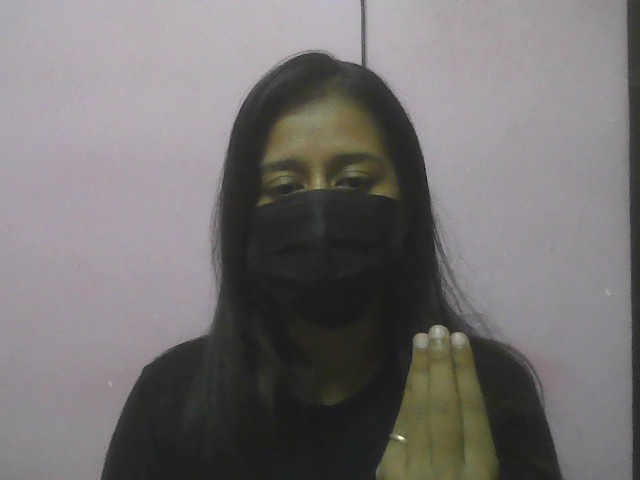Morning: (381, 309, 507, 479)
